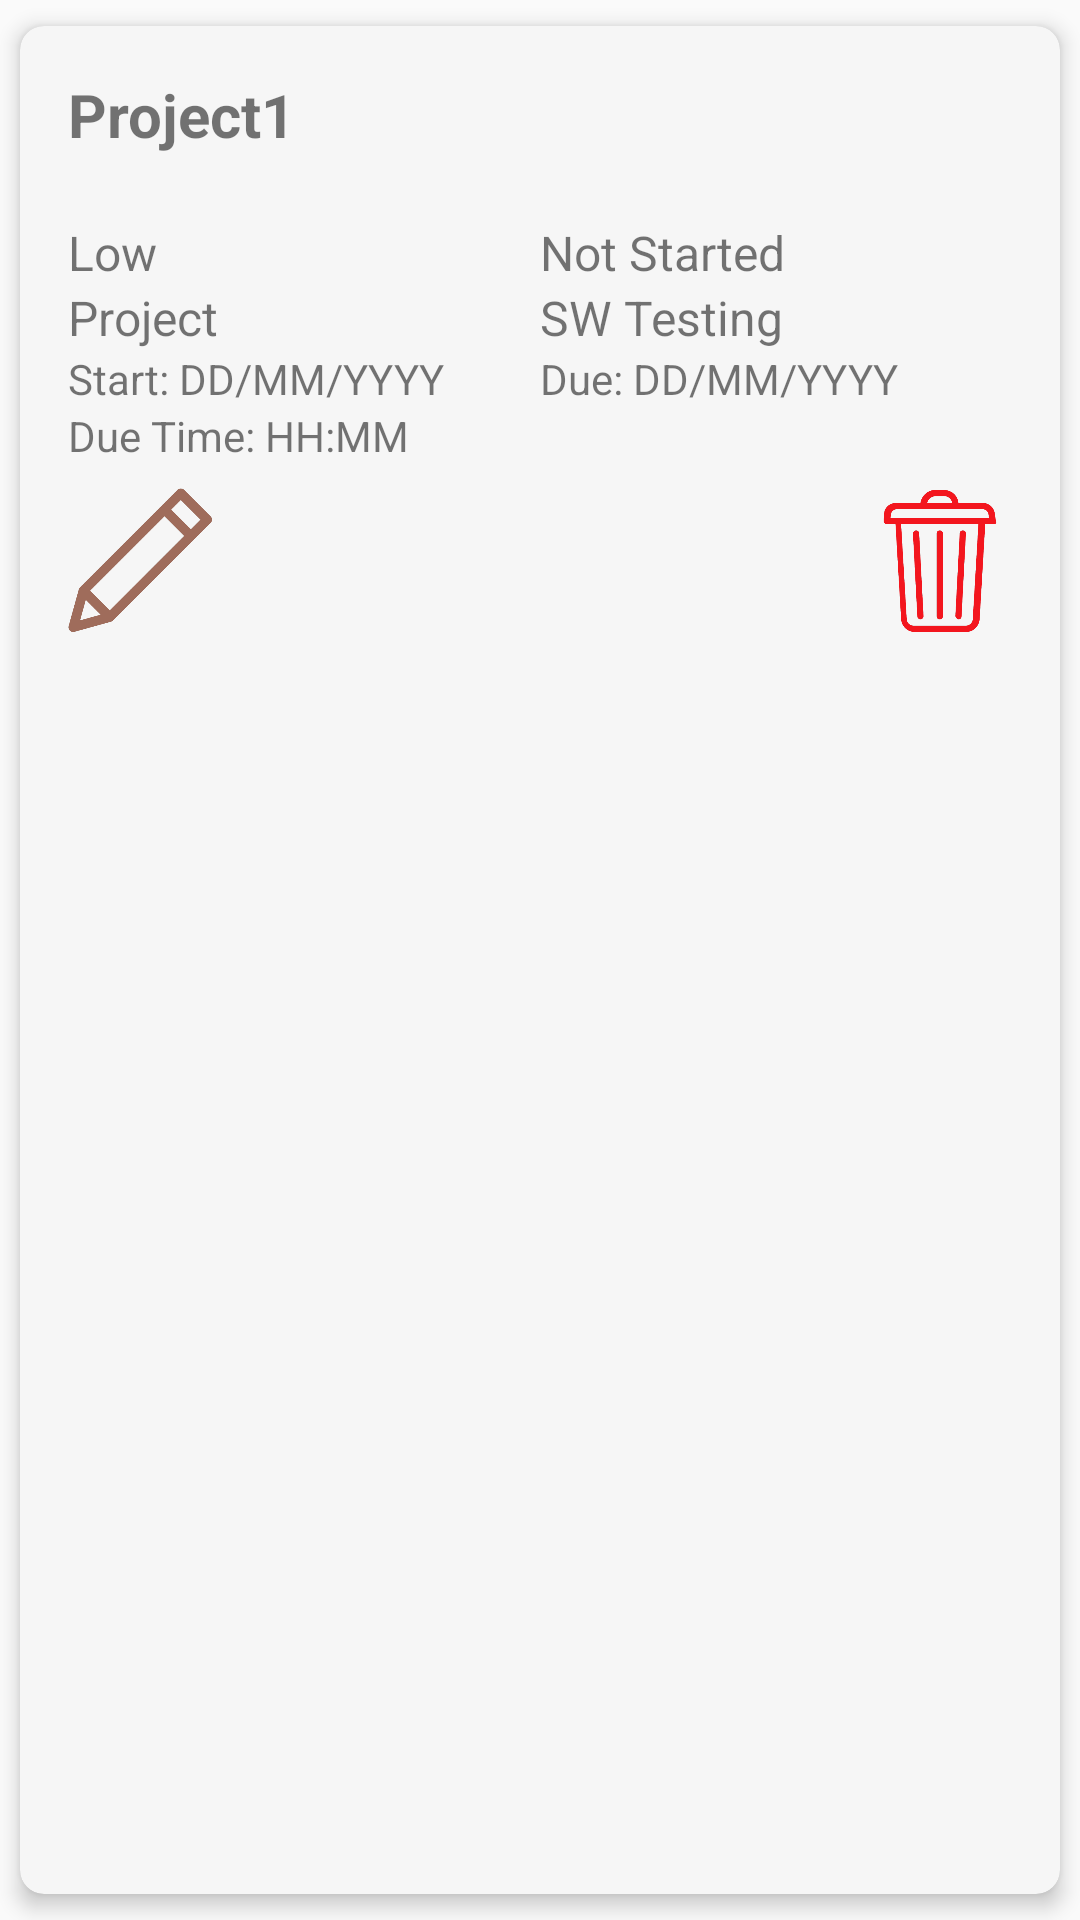

Point at icon controls on the screen. Image size 1080×1920, points as [x,y].
Delete item: [940,561]
Edit item: [140,560]
